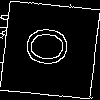O: (24, 25, 79, 69)
